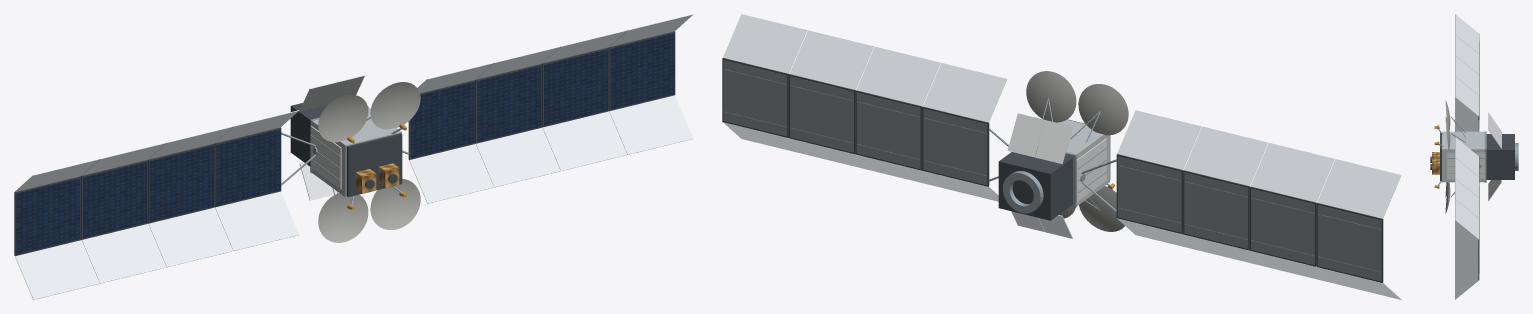
The model's file is ref-hs-702-26038.glb.
3 renders of one model, left to right at view 1: azimuth 30°, elevation 25°; view 2: azimuth 150°, elevation 25°; view 3: azimuth 270°, elevation 25°, orthographic. The views are drawn at different scales.
Parts seen in each view (by area): view 1: Solar concentrator mirror (×16), Solar cell panel (×8), Communications reflector (×4), Solar panel frame (×8), Earth-facing deck, Deployed radiator leaf (×3), Radiator face, Payload module, Service module; view 2: Solar concentrator mirror (×16), Rear array substrate (×8), Communications reflector (×3), Solar panel frame (×8), Service module, Deployed radiator leaf (×3), Radiator face, Payload module, Launch adapter ring; view 3: Solar concentrator mirror (×15), Service module, Payload module, Radiator face, Deployed radiator leaf (×3), Communications reflector (×3), Module interface, Communications feed assembly, Launch adapter ring, Solar panel frame, Earth-facing deck.
Part boxes in pixels (bbox=[...]): Solar concentrator mirror (×16): bbox=[15, 14, 693, 299]; Solar cell panel (×8): bbox=[16, 33, 674, 254]; Communications reflector (×4): bbox=[318, 82, 420, 242]; Solar panel frame (×8): bbox=[14, 31, 675, 255]; Earth-facing deck: bbox=[346, 133, 402, 197]; Deployed radiator leaf (×3): bbox=[299, 75, 364, 200]; Radiator face: bbox=[310, 126, 341, 189]; Payload module: bbox=[312, 107, 401, 197]; Service module: bbox=[290, 103, 327, 166]; Solar concentrator mirror (×16): bbox=[723, 14, 1401, 299]; Rear array substrate (×8): bbox=[723, 60, 1381, 281]; Communications reflector (×3): bbox=[1026, 71, 1128, 231]; Solar panel frame (×8): bbox=[722, 58, 1383, 282]; Service module: bbox=[998, 151, 1072, 220]; Deployed radiator leaf (×3): bbox=[1007, 113, 1072, 238]; Radiator face: bbox=[1076, 138, 1106, 201]; Payload module: bbox=[1039, 120, 1109, 205]; Launch adapter ring: bbox=[1003, 171, 1043, 213]; Solar concentrator mirror (×15): bbox=[1455, 14, 1478, 299]; Service module: bbox=[1486, 134, 1514, 179]; Payload module: bbox=[1442, 131, 1484, 182]; Radiator face: bbox=[1447, 152, 1485, 179]; Deployed radiator leaf (×3): bbox=[1488, 112, 1501, 201]; Communications reflector (×3): bbox=[1445, 100, 1450, 213]; Module interface: bbox=[1484, 131, 1486, 182]; Communications feed assembly: bbox=[1432, 159, 1439, 174]; Launch adapter ring: bbox=[1515, 143, 1518, 170]; Solar panel frame: bbox=[1478, 219, 1479, 280]; Earth-facing deck: bbox=[1440, 132, 1441, 181].
Bounding box in the file's own units: 40.96 × 8.69 × 7.44.
Materials: 10 (2 with a texture image).
